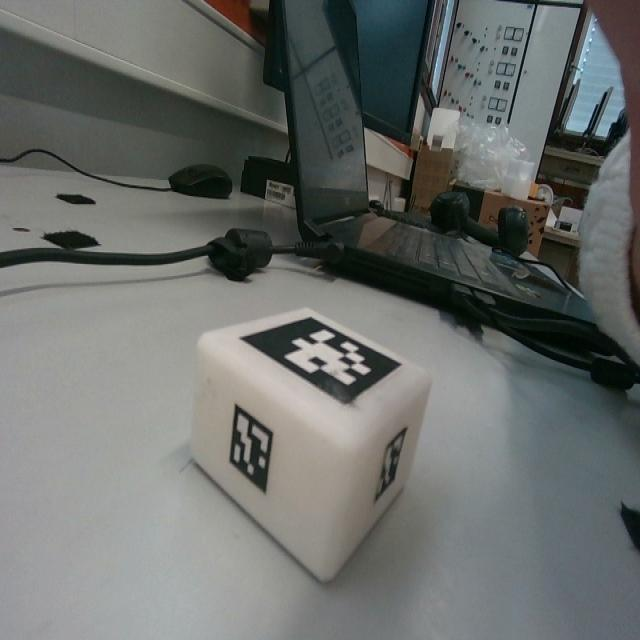Cube: (191, 306, 432, 582)
